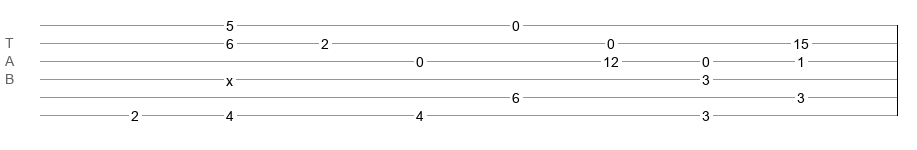0: (416, 54, 424, 64), (512, 18, 520, 28), (607, 36, 615, 46), (702, 54, 710, 64)
1: (797, 54, 805, 64)
12: (603, 54, 619, 64)
15: (793, 36, 809, 46)
2: (131, 108, 139, 118), (321, 36, 329, 46)
3: (702, 72, 710, 82), (702, 108, 710, 118), (797, 90, 805, 100)
4: (226, 108, 234, 118), (416, 108, 424, 118)
5: (226, 18, 234, 28)
6: (226, 36, 234, 46), (512, 90, 520, 100)
x: (226, 73, 233, 81)
